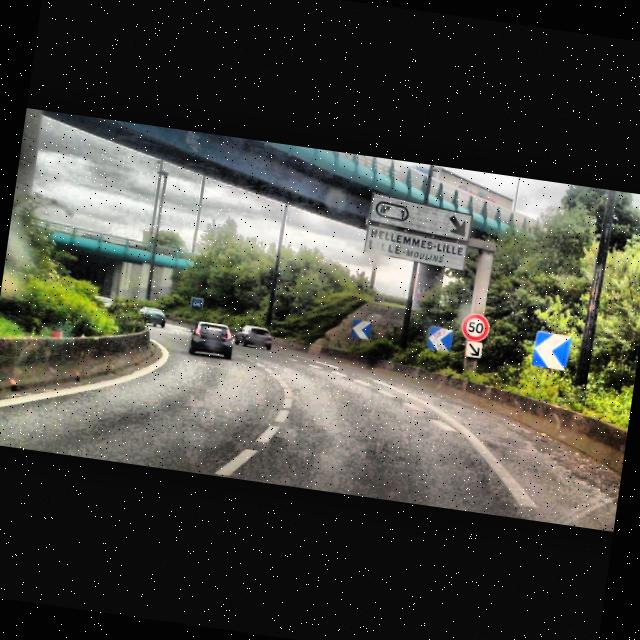speed_50: (460, 314, 490, 344)
